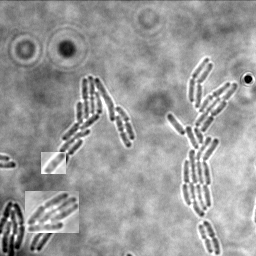Dividing: (204, 219, 222, 255), (199, 223, 215, 253)
Microcolony: (167, 57, 238, 216), (59, 75, 136, 169), (25, 191, 79, 233), (1, 200, 26, 255)
Rod: (41, 152, 66, 174)
